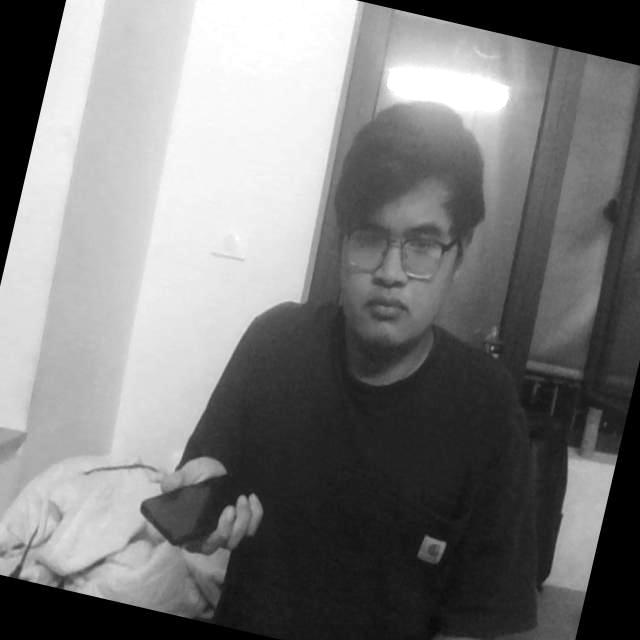phone: (130, 456, 272, 568)
